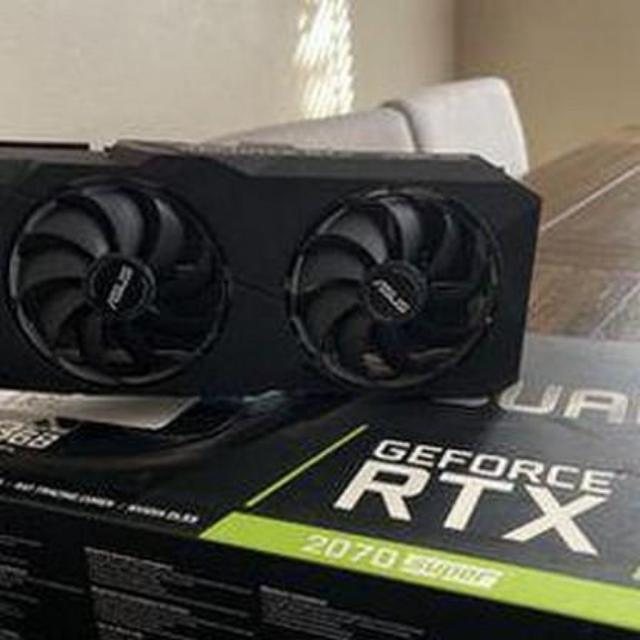GPU: (0, 125, 540, 406)
